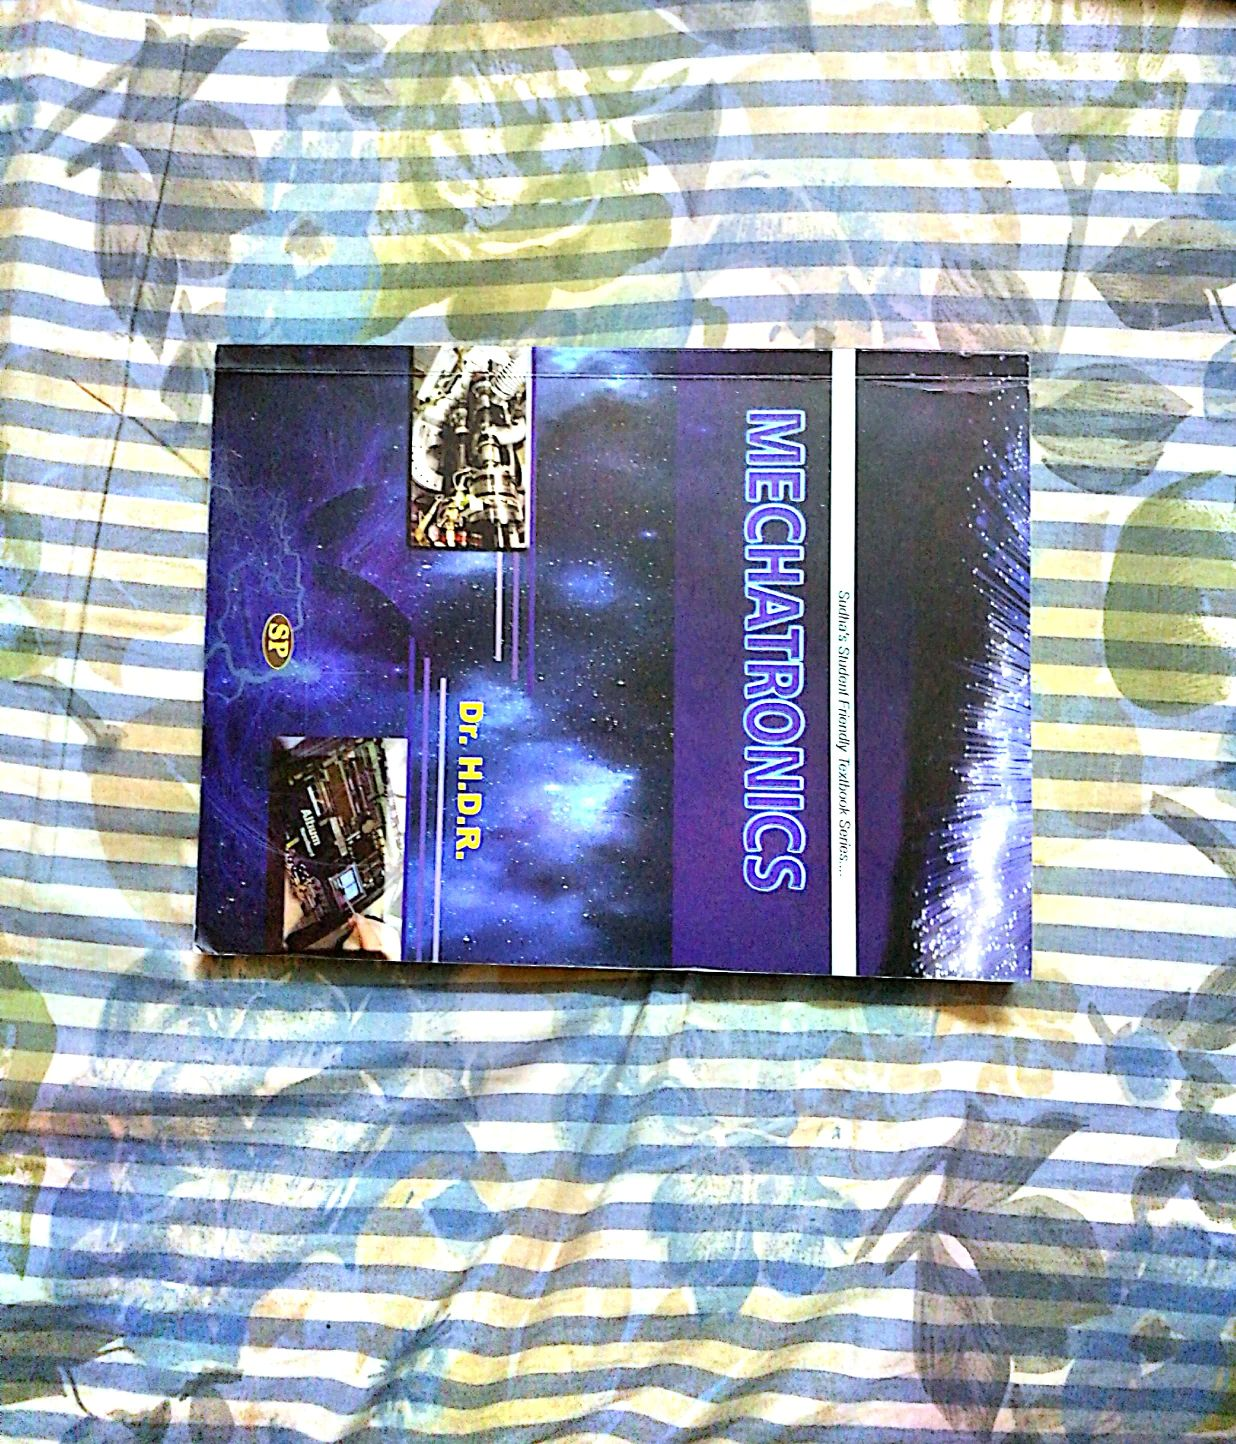mechatronics: (177, 308, 1064, 1019)
